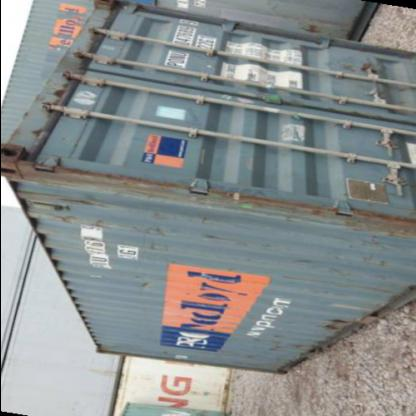Damage: (11, 186, 114, 240), (246, 330, 306, 362), (348, 230, 388, 274), (194, 229, 237, 256), (129, 225, 169, 254), (313, 311, 351, 337), (286, 253, 312, 271), (184, 209, 208, 227), (43, 84, 67, 102), (133, 279, 151, 301), (26, 127, 46, 139)
